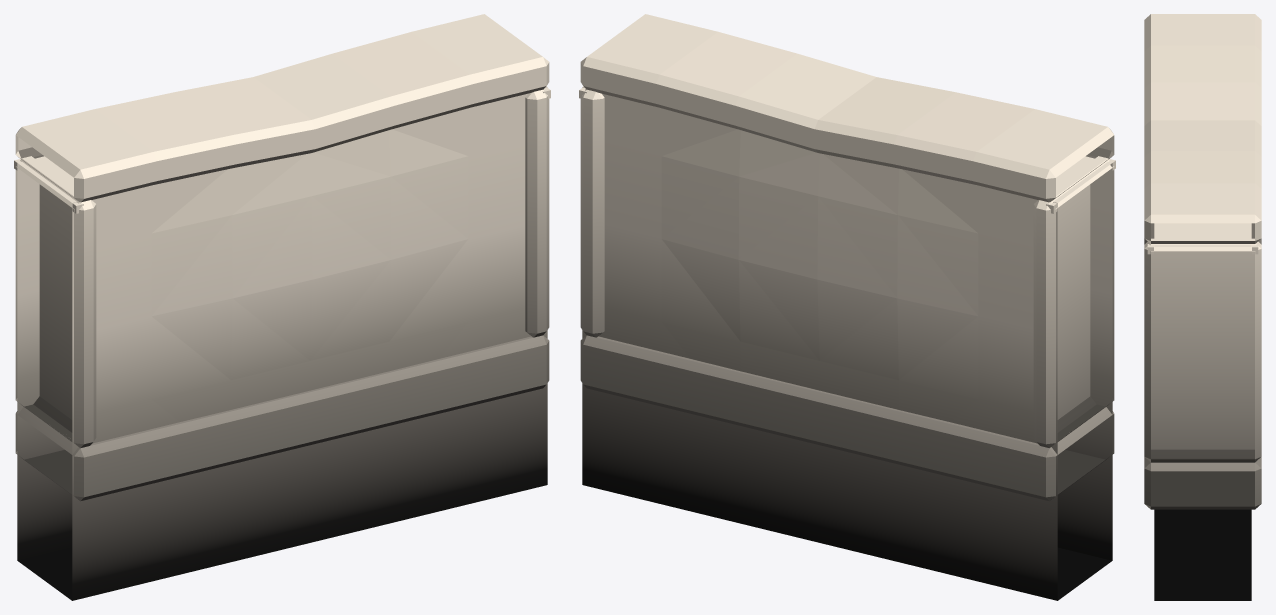
File: SM_VKI_Wall_Wattle_Plain_150A_Cut.fbx
The picture shows the model from 3 angles, left to right: view 1: azimuth 30°, elevation 25°; view 2: azimuth 150°, elevation 25°; view 3: azimuth 270°, elevation 25°; orthographic projection. The views are drawn at different scales.
Parts seen in each view (by area): view 1: SM_VKI_Wall_Wattle_Plain_150A_Cut.001; view 2: SM_VKI_Wall_Wattle_Plain_150A_Cut.001; view 3: SM_VKI_Wall_Wattle_Plain_150A_Cut.001.
Boxes of the visible parts, <box> form: SM_VKI_Wall_Wattle_Plain_150A_Cut.001: <box>14,14,550,600</box>; SM_VKI_Wall_Wattle_Plain_150A_Cut.001: <box>579,14,1115,600</box>; SM_VKI_Wall_Wattle_Plain_150A_Cut.001: <box>1144,14,1261,600</box>.
Size of the model in its own units: 1.5 by 1.3 by 0.36.
